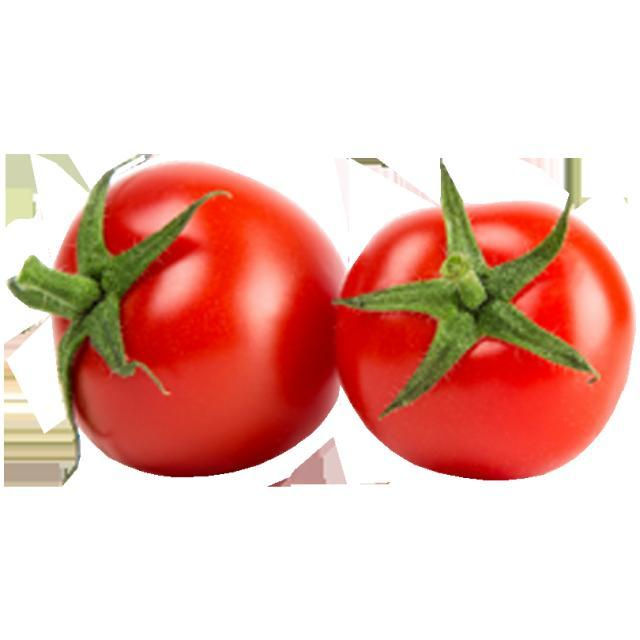kirmizi: (58, 146, 628, 484)
